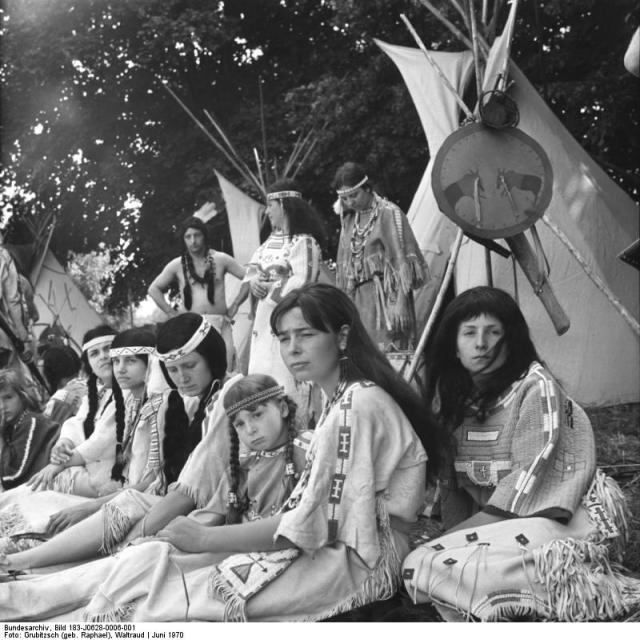body: (0, 278, 454, 634), (399, 284, 626, 622), (34, 372, 318, 618), (0, 310, 248, 585), (0, 327, 173, 563), (0, 326, 137, 508), (244, 174, 338, 435), (0, 230, 103, 420), (329, 159, 429, 353), (148, 214, 255, 379), (0, 367, 64, 499), (38, 344, 88, 424)
